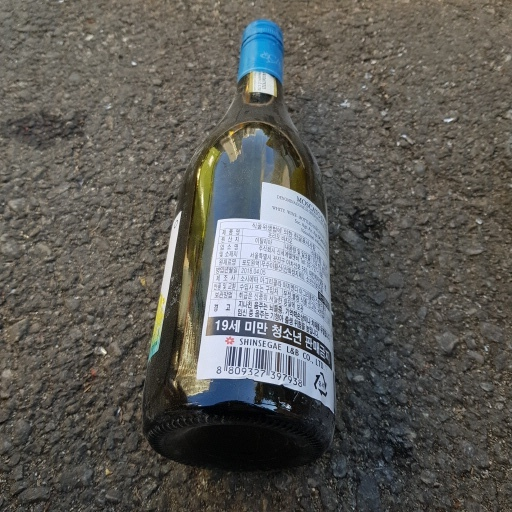Glass_2: (144, 19, 337, 471)
